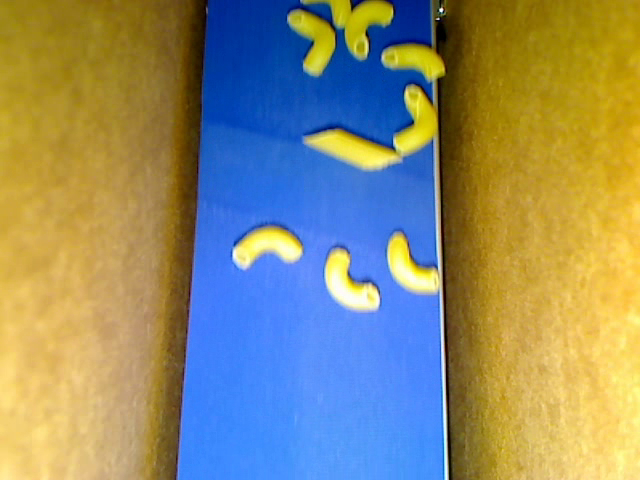elbow: (323, 246, 380, 313), (231, 223, 304, 270), (386, 230, 438, 295), (287, 9, 335, 77), (394, 83, 438, 156), (344, 1, 393, 62), (381, 44, 446, 83), (300, 1, 354, 31)
penne: (302, 128, 403, 172)
